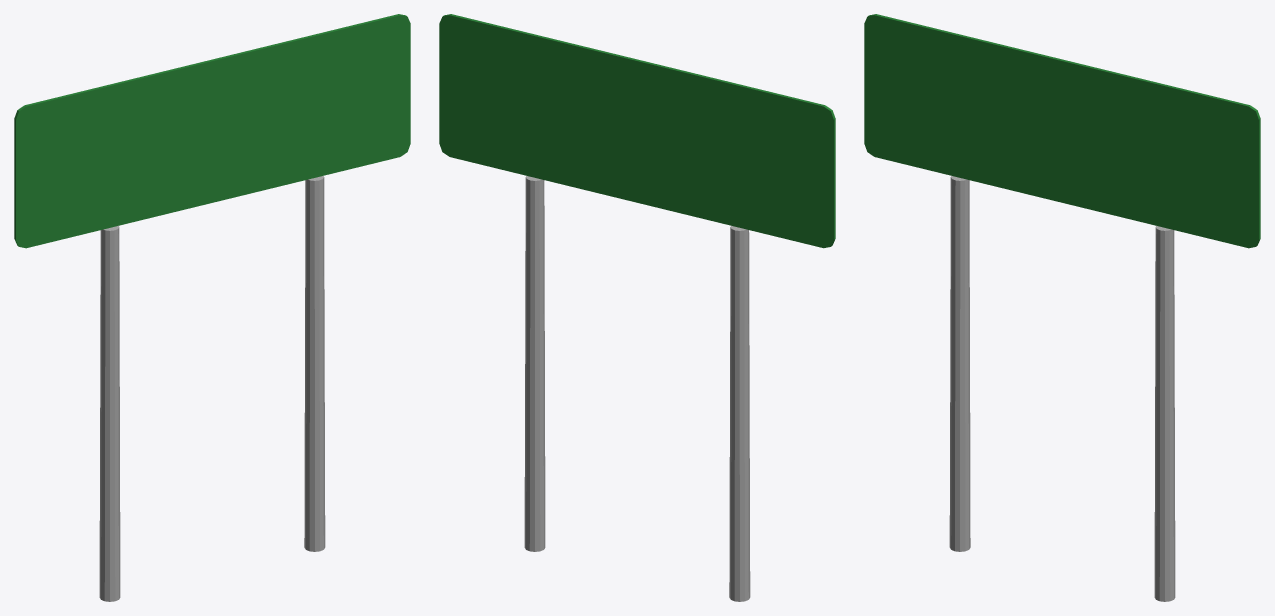
Rendered from doublePostSign.glb.
The picture shows the model from 3 angles, left to right: view 1: azimuth 30°, elevation 25°; view 2: azimuth 150°, elevation 25°; view 3: azimuth 330°, elevation 25°; orthographic projection.
Visible parts, largest first — view 1: Circle.002; view 2: Circle.002; view 3: Circle.002.
Part boxes in pixels (box(x1,y1,x2,y2)): Circle.002: box(14, 14, 410, 601); Circle.002: box(439, 14, 835, 601); Circle.002: box(864, 14, 1260, 601).
Size of the model in its own units: 5.26 by 6.53 by 0.24.
